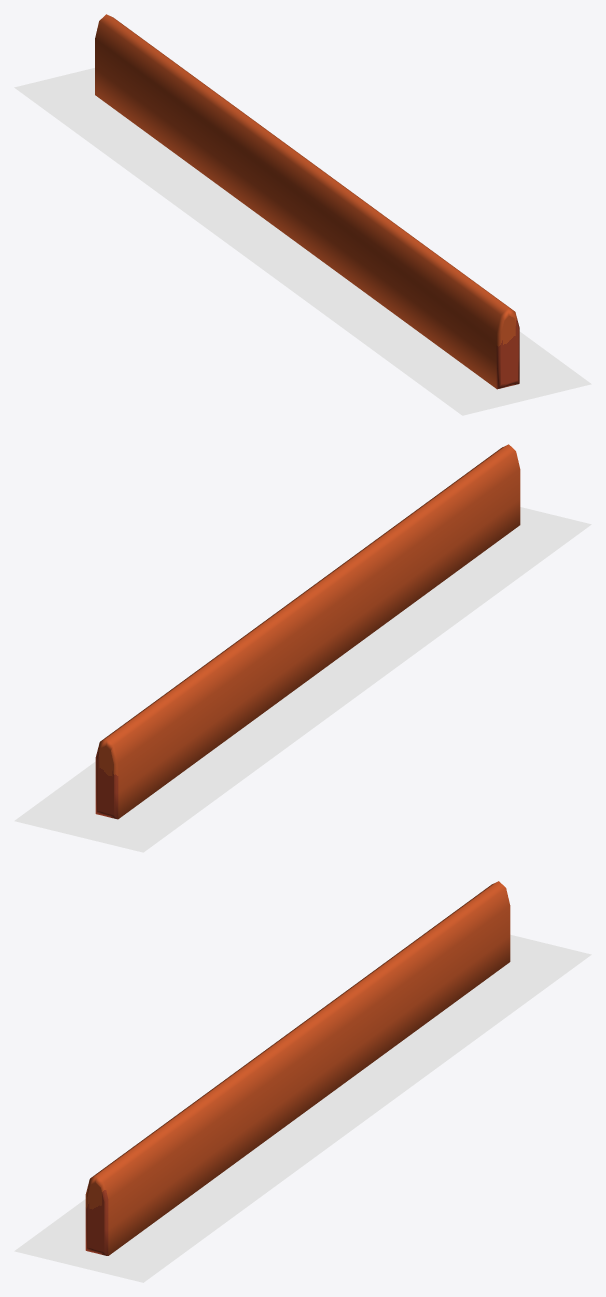
The model's file is NormalContent.fbx.
3 views of the same model, one above another, from view 1: azimuth 30°, elevation 25°; view 2: azimuth 150°, elevation 25°; view 3: azimuth 330°, elevation 25° (orthographic).
Visible parts, largest first — view 1: BasicObstacle, Shadow; view 2: BasicObstacle, Shadow; view 3: BasicObstacle, Shadow.
Part boxes in pixels (<box>): BasicObstacle: <box>95,14,519,389</box>; Shadow: <box>14,68,591,415</box>; BasicObstacle: <box>95,444,520,819</box>; Shadow: <box>14,507,591,852</box>; BasicObstacle: <box>85,881,510,1255</box>; Shadow: <box>14,934,591,1282</box>.
Size of the model in its own units: 0.6805 by 0.3992 by 4.08.
